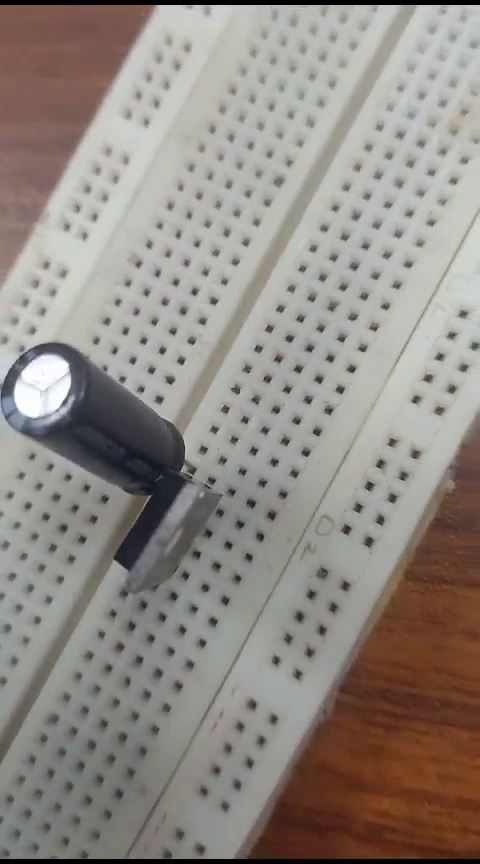capacitor: (6, 324, 192, 491)
voltage regulator: (110, 471, 218, 600)
